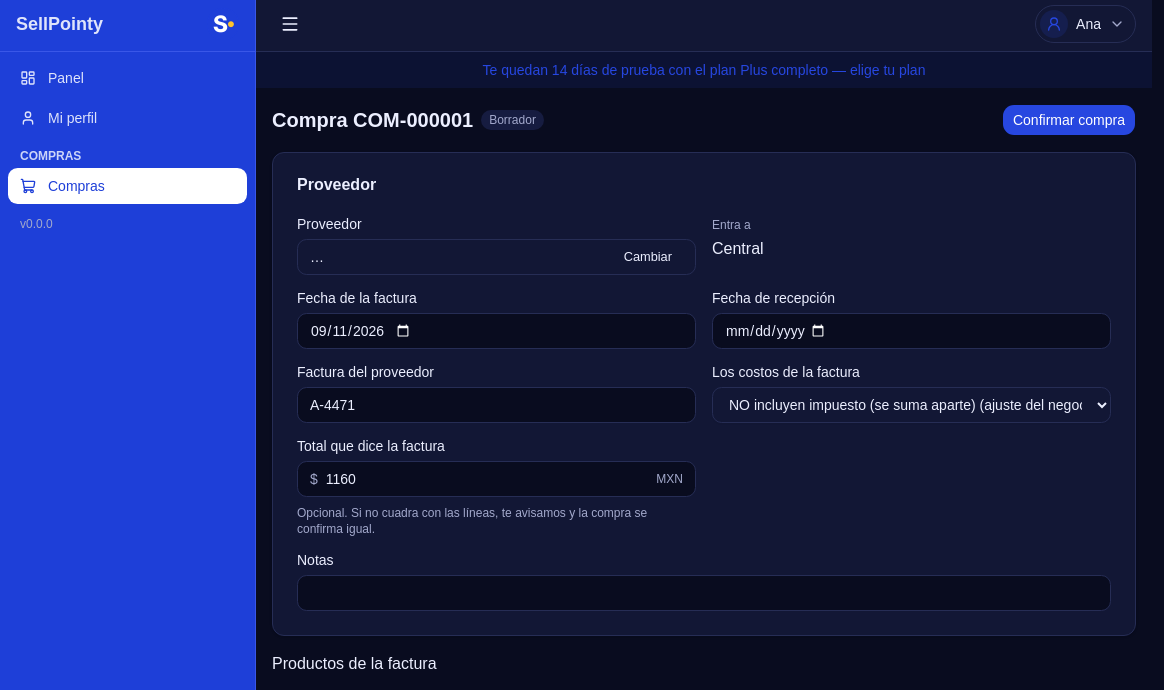
Compras — la ficha (F9-PURCH-11) › sin presentación, la unidad base se ve traducida en el selector y en los avisos
Click the button "Confirmar compra".
click(1069, 120)  # box [1002, 104, 1136, 136]
(page scrolled)
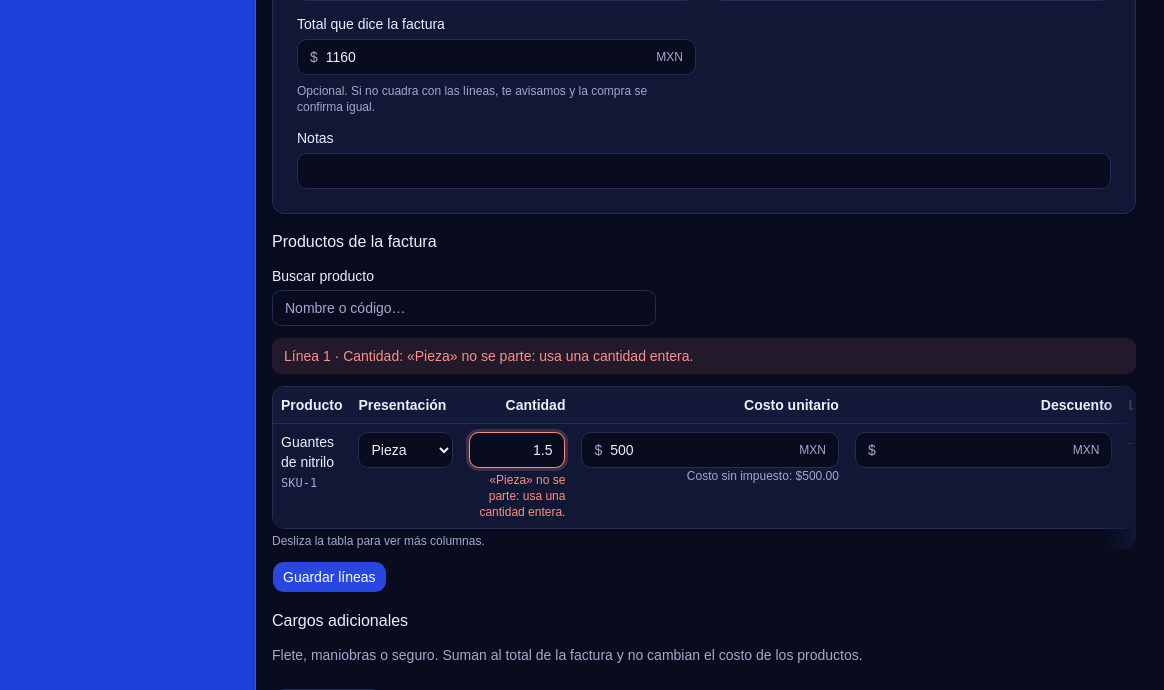
Result: the text "Línea 1 · Cantidad: «Pieza» no se parte: usa una cantidad entera." is shown at [272, 338, 1136, 374]
